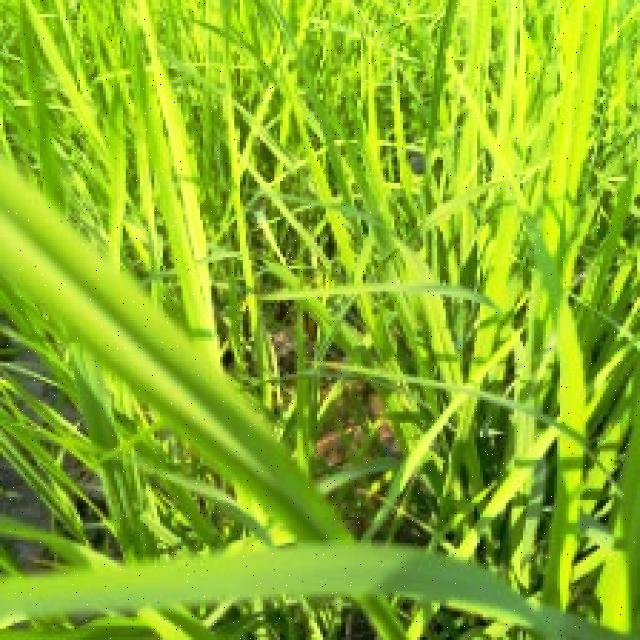health: (1, 154, 325, 612)
